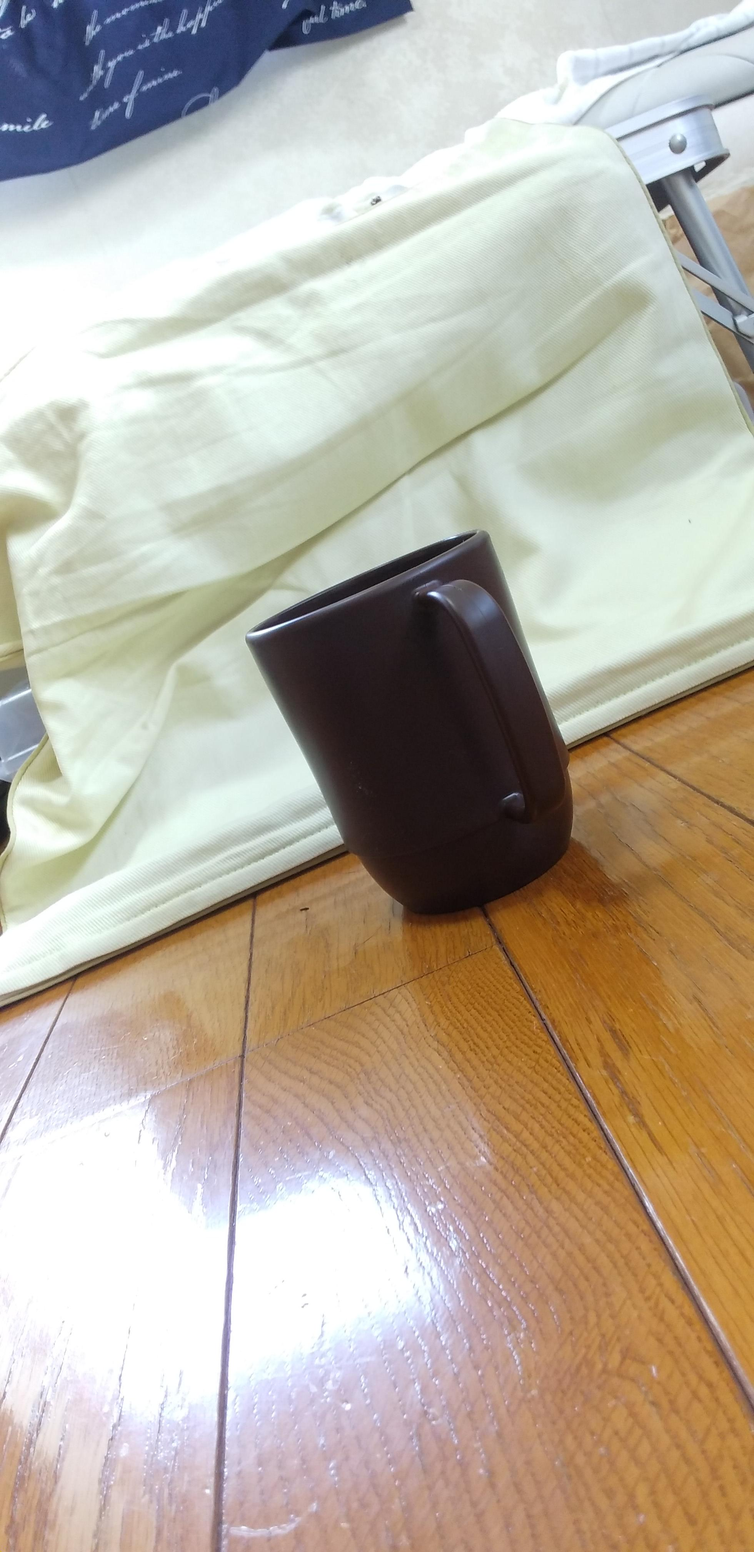mug-real100-3d100: (247, 531, 572, 913)
